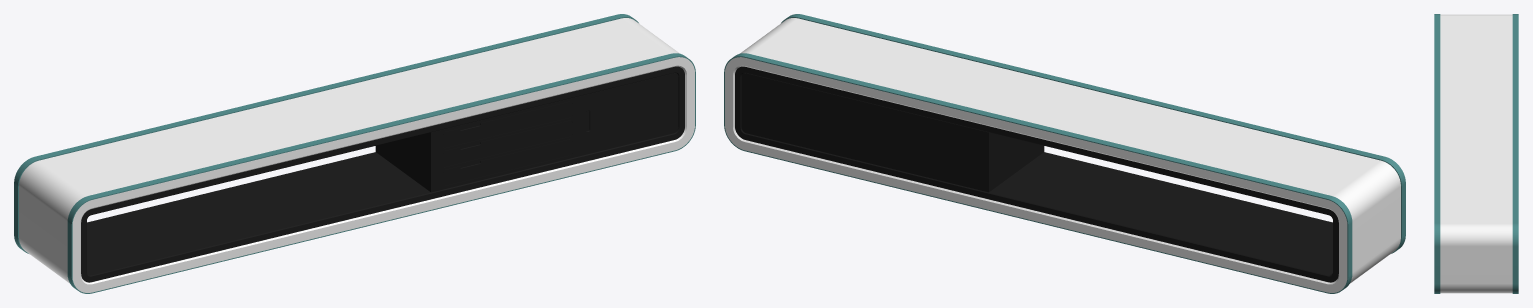
File: SofaTable_Mesh.fbx
3 views of the same model, side by side, from view 1: azimuth 30°, elevation 25°; view 2: azimuth 150°, elevation 25°; view 3: azimuth 270°, elevation 25° (orthographic). The views are drawn at different scales.
Parts seen in each view (by area): view 1: SofaTable_Mesh; view 2: SofaTable_Mesh; view 3: SofaTable_Mesh.
Part boxes in pixels (box(x1,y1,x2,y2)): SofaTable_Mesh: box(14, 14, 695, 293); SofaTable_Mesh: box(724, 14, 1405, 293); SofaTable_Mesh: box(1434, 14, 1518, 293).
Bounding box in the file's own units: 577 × 83.49 × 92.35.
